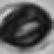correct: (0, 4, 54, 47)
